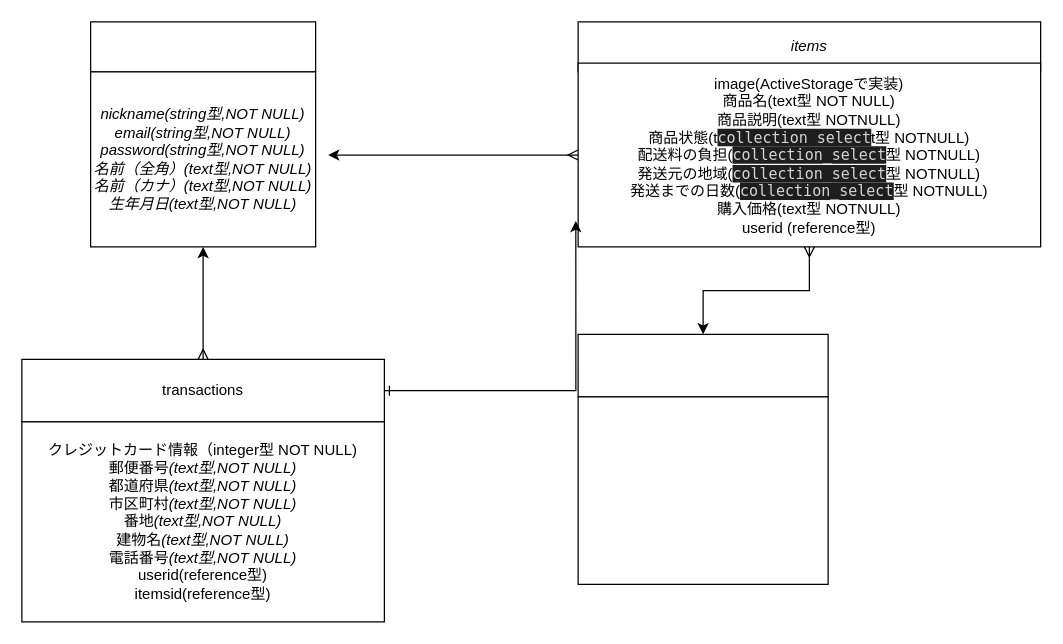
The diagram is 1063 pixels wide and 644 high, and some of its shapes have lost their labels. Each missing label, with the centre of its shape:
comments: the point at 702,365
text(text型 NOT NULL) userid(reference型): the point at 702,490
users: the point at 202,46
